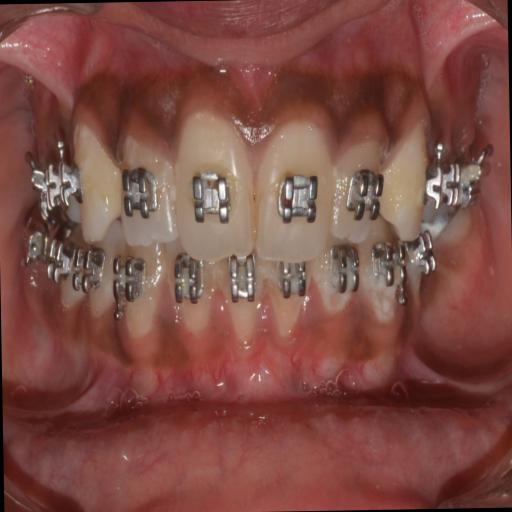correct_brace: (336, 156, 388, 235), (190, 164, 236, 240), (116, 159, 162, 235), (274, 164, 322, 230), (52, 140, 90, 210), (423, 156, 451, 216)
incorrect_brace: (117, 120, 177, 247), (334, 113, 388, 248)
